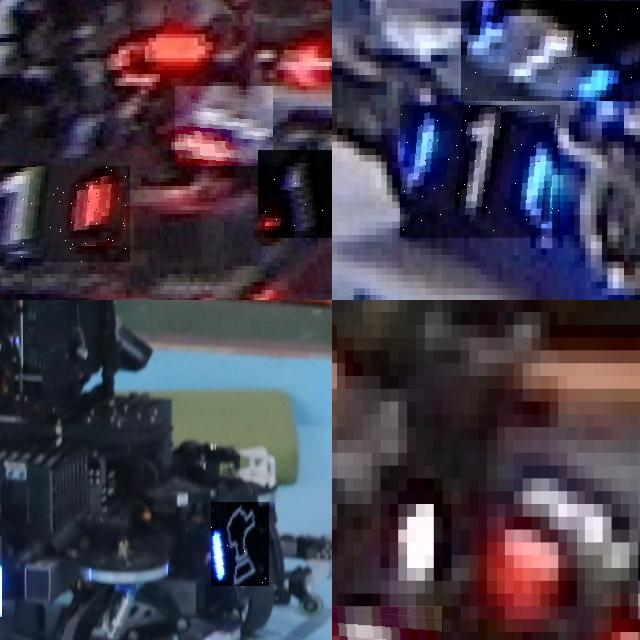B1: (400, 105, 560, 238), (461, 1, 640, 101)
Bs: (211, 502, 269, 586)
R1: (0, 166, 130, 262), (175, 86, 273, 166), (257, 150, 332, 238)
